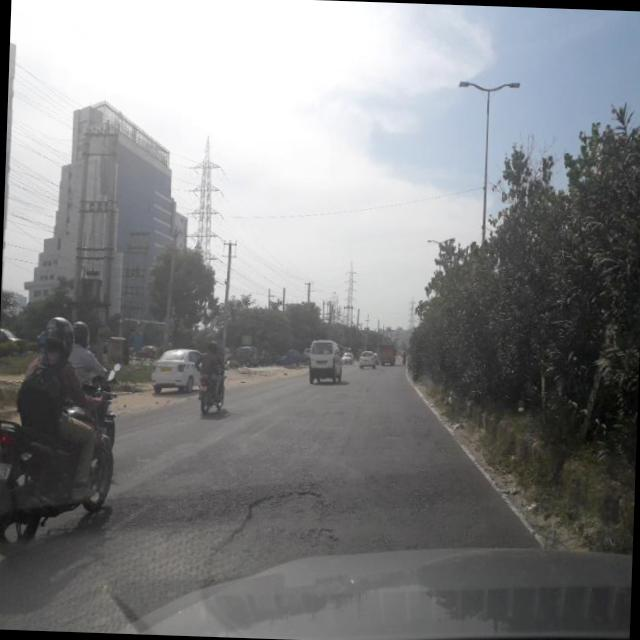crack: (356, 453, 476, 540), (419, 415, 491, 535), (329, 388, 363, 476)
pothole: (196, 462, 362, 587)
